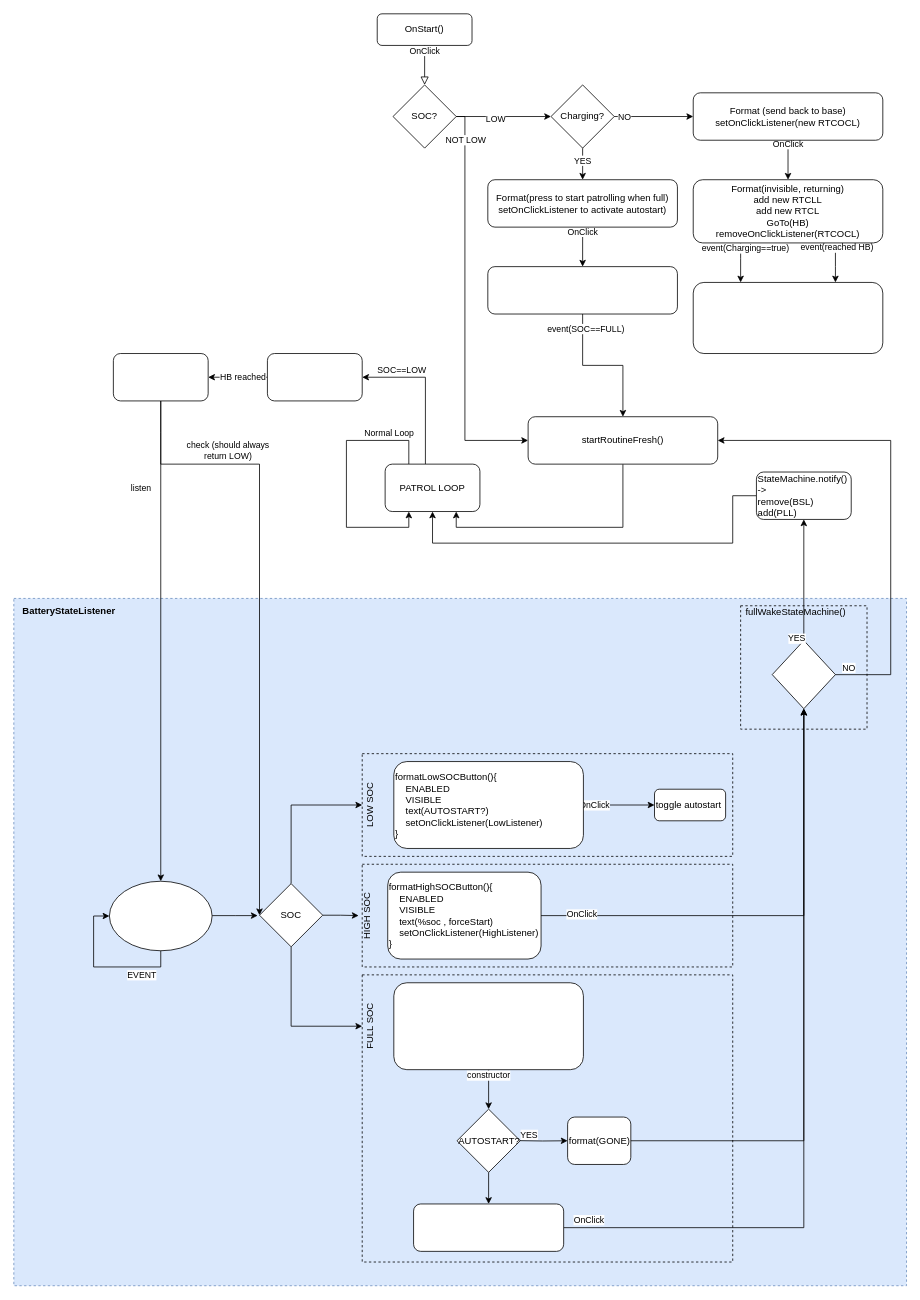
The diagram is 920 pixels wide and 1300 high, and some of its shapes have lost their labels. The box of each missing label's shape, as (x1, y1, x2, y2) in pixels:
add(BSL): (113, 353, 208, 401)
BatteryStatusChanged: (109, 880, 212, 951)
format(%soc, autostart ON) set BSL pause mediaPlayer remove RTCL remove RTCLL: (692, 282, 883, 354)
Format(autostart on, remove button) setOnBatteryStatusChangedListener: (487, 266, 677, 314)
format(VISIBLE) text(Start Patrol) setOnClickListener(FullListener): (413, 1203, 564, 1251)
formatHighSOCButton(){...: (393, 982, 583, 1070)
StateMachine exists?: (771, 640, 835, 709)
stopMovement GoTo(HB) remove(PLL) add(RTCLL): (267, 353, 362, 401)
